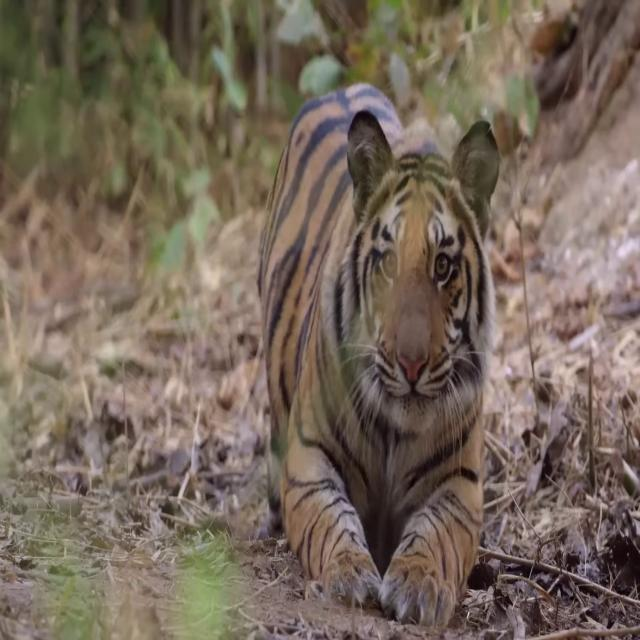tiger: (254, 82, 503, 634)
